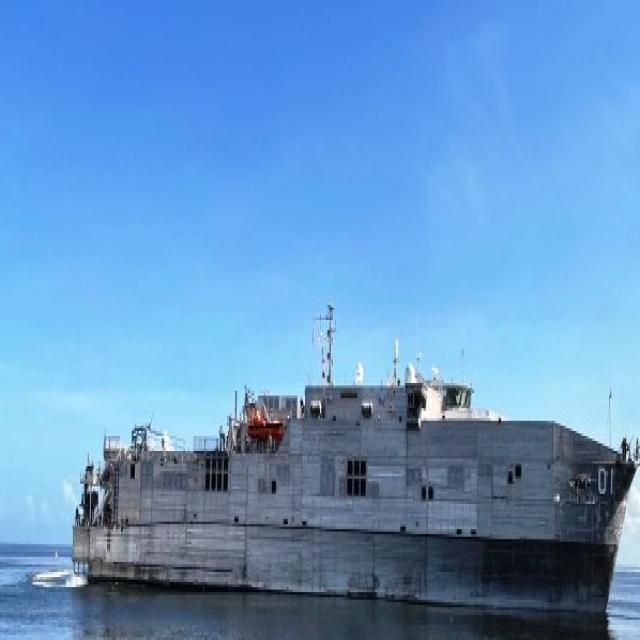cargoship: (85, 362, 635, 627)
